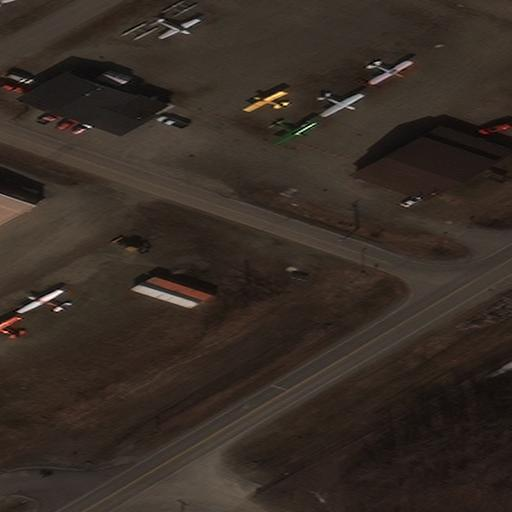Small Civil Transport: (15, 288, 64, 312), (273, 122, 319, 146), (322, 94, 365, 118), (370, 61, 413, 85), (241, 90, 283, 110), (159, 20, 201, 39), (0, 314, 19, 338)
